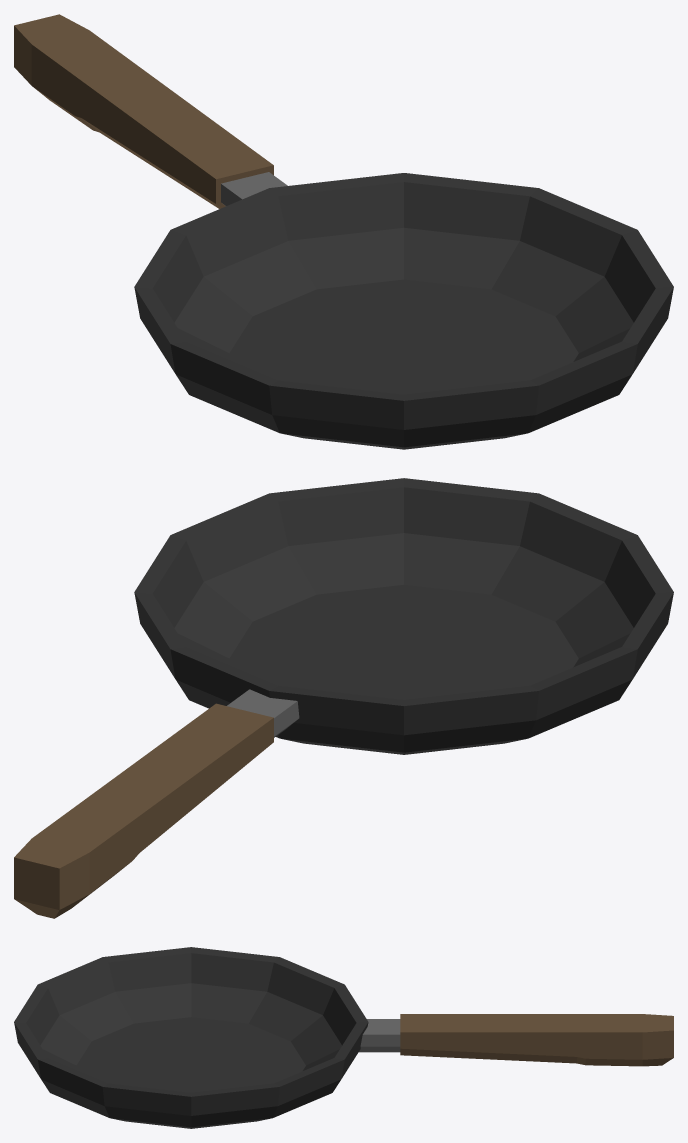
The model's file is Pan Small.glb.
3 renders of one model, top to bottom at view 1: azimuth 30°, elevation 25°; view 2: azimuth 150°, elevation 25°; view 3: azimuth 270°, elevation 25°, orthographic. The views are drawn at different scales.
Parts seen in each view (by area): view 1: Pan_Small; view 2: Pan_Small; view 3: Pan_Small.
Part boxes in pixels (x1=…): Pan_Small: x1=14, y1=14, x2=673, y2=449; Pan_Small: x1=14, y1=478, x2=673, y2=918; Pan_Small: x1=14, y1=947, x2=673, y2=1128.
Size of the model in its own units: 0.2937 by 0.0579 by 0.5468.
